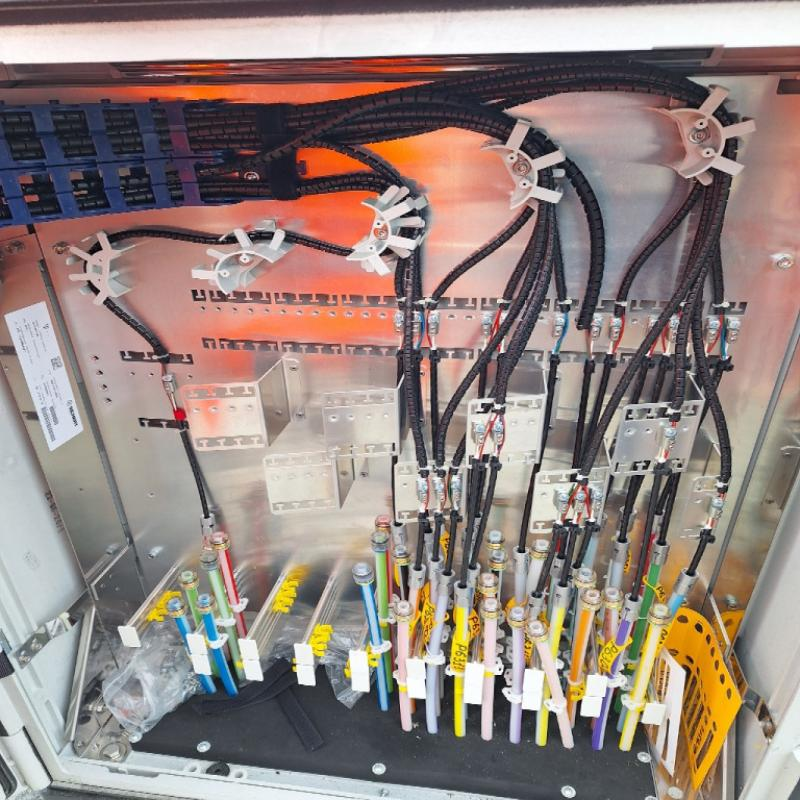NT-Gehause: (0, 3, 800, 800)
